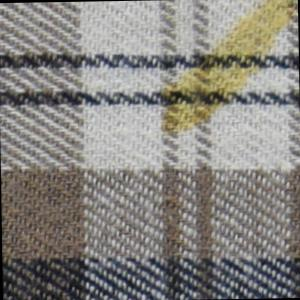Stain: (153, 1, 300, 141)
